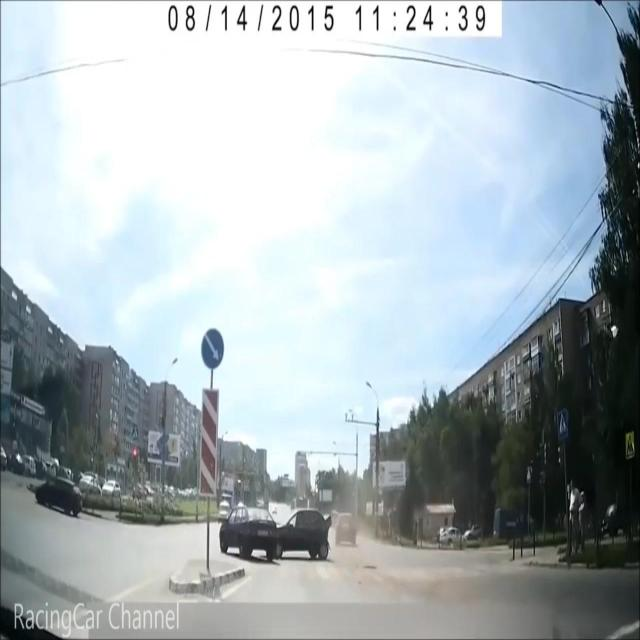moderate: (218, 496, 333, 565)
